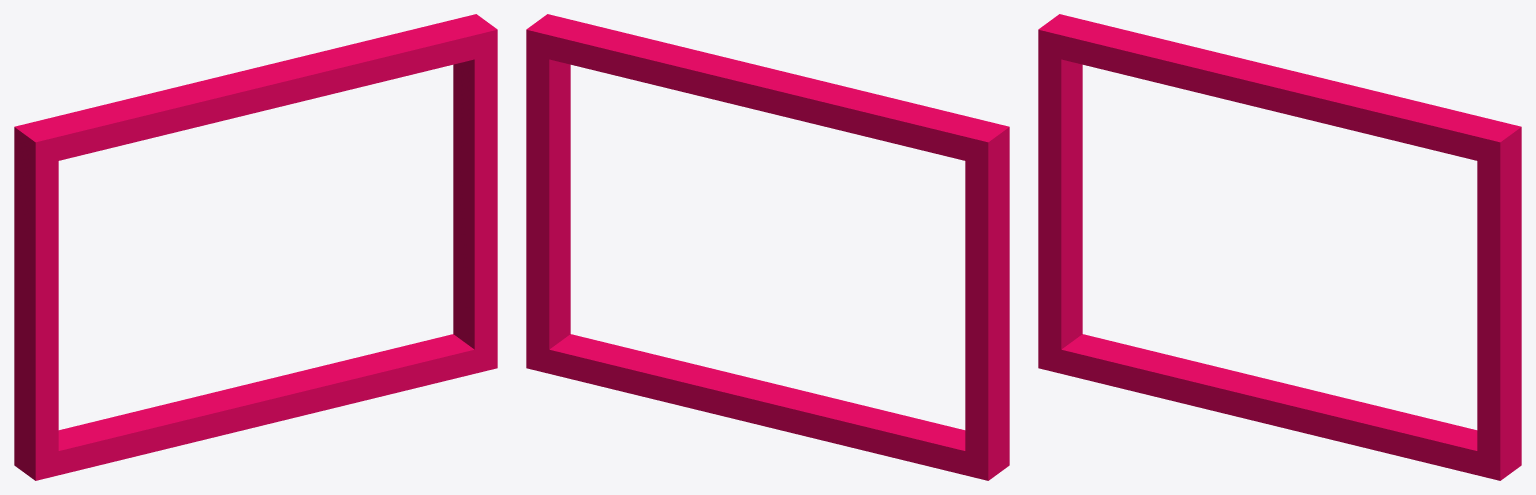
File: gate_top.dae
3 renders of one model, left to right at view 1: azimuth 30°, elevation 25°; view 2: azimuth 150°, elevation 25°; view 3: azimuth 330°, elevation 25°, orthographic.
Parts seen in each view (by area): view 1: body11493; view 2: body11493; view 3: body11493.
Boxes of the visible parts, x1=… form: body11493: x1=14, y1=14, x2=497, y2=480; body11493: x1=526, y1=14, x2=1009, y2=480; body11493: x1=1038, y1=14, x2=1521, y2=480.
Bounding box in the file's own units: 1 × 0.08 × 0.7.
